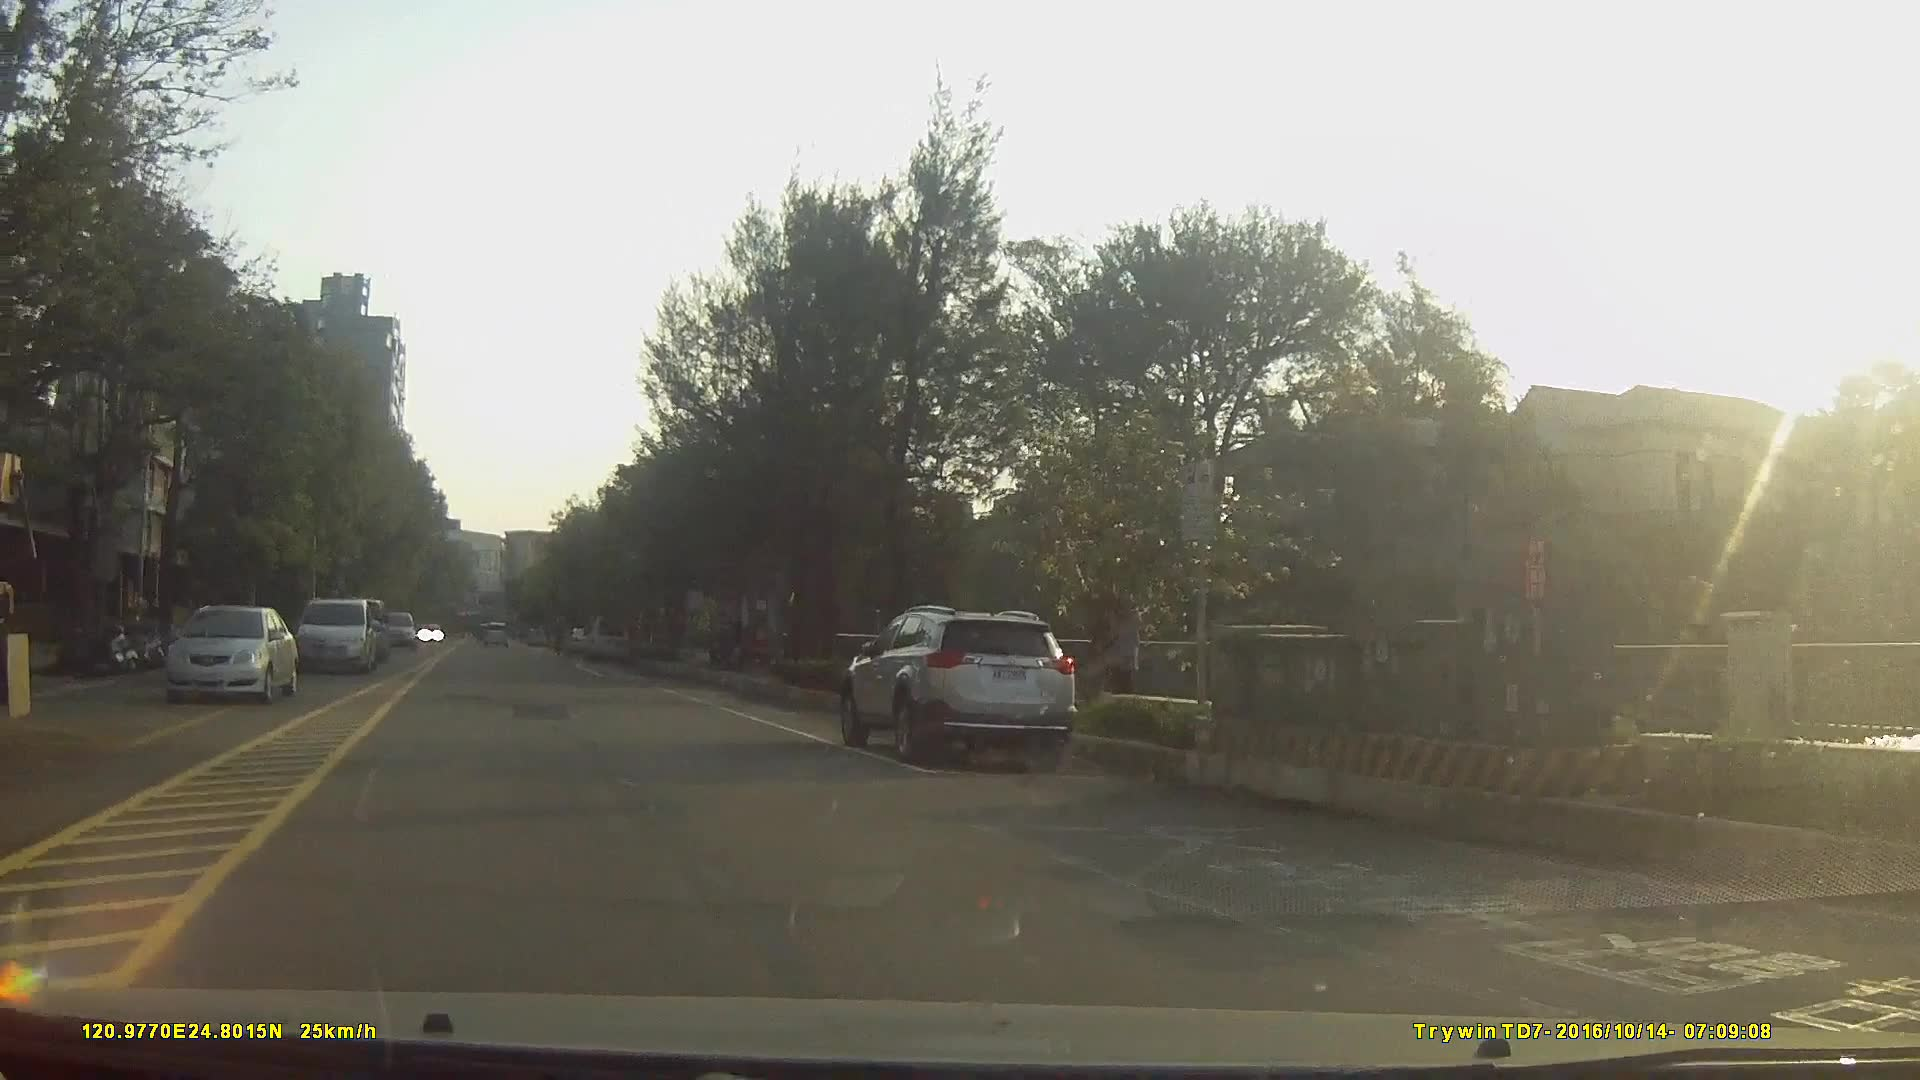vehicle: (841, 600, 1075, 764), (164, 605, 295, 702), (298, 597, 378, 676), (582, 618, 632, 663), (373, 607, 415, 651)
